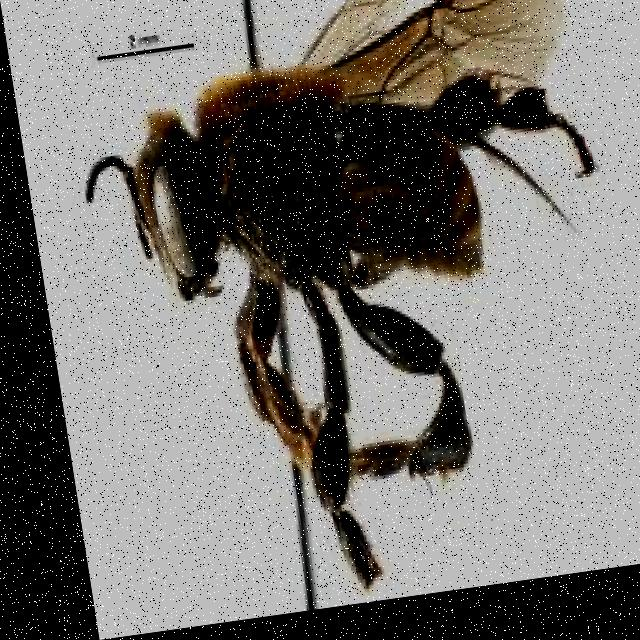Meliponula: (54, 0, 640, 608)
